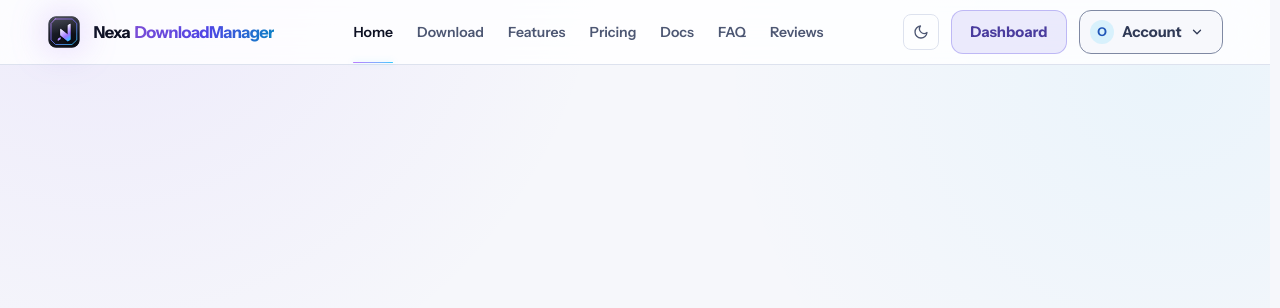
Scenario: Navbar — a signed-in account › keeps signing out inside the account menu
This screenshot has width=1280, height=308.
Click the button "O Account" at (1151, 32), box [1079, 10, 1223, 54]
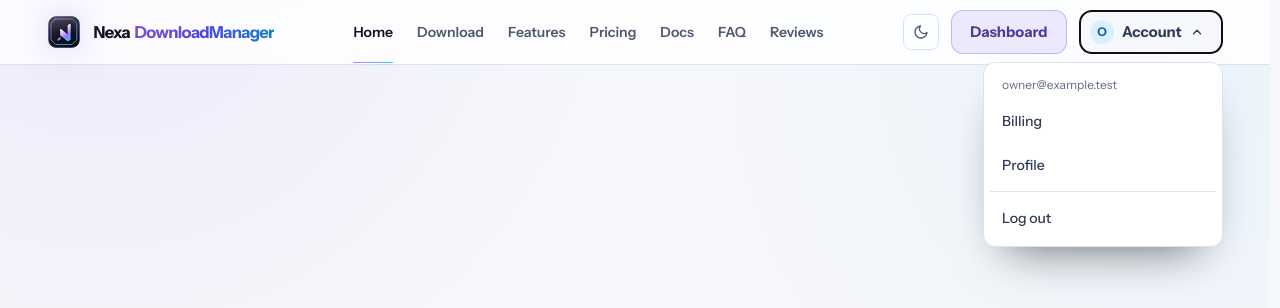
Now the button "O Account" is expanded, box [1079, 10, 1223, 54]
Now the text "owner@example.test" is shown, box [1002, 77, 1117, 92]
Press Escape
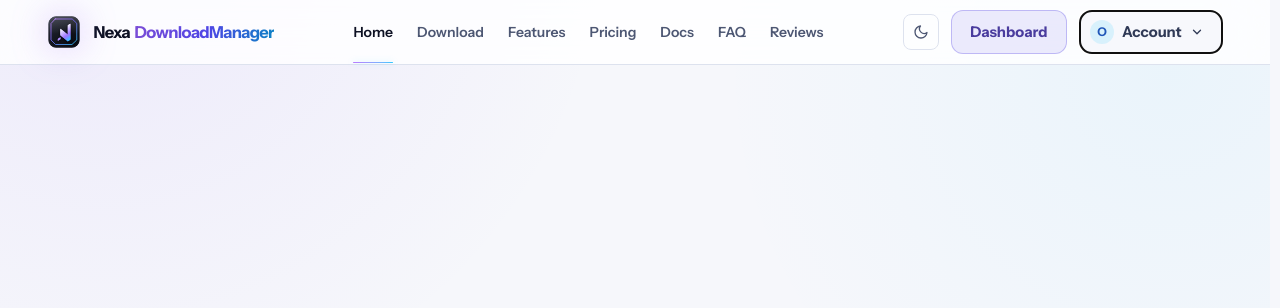
Now the button "O Account" is collapsed, box [1079, 10, 1223, 54]
Now the link "Billing" is gone
